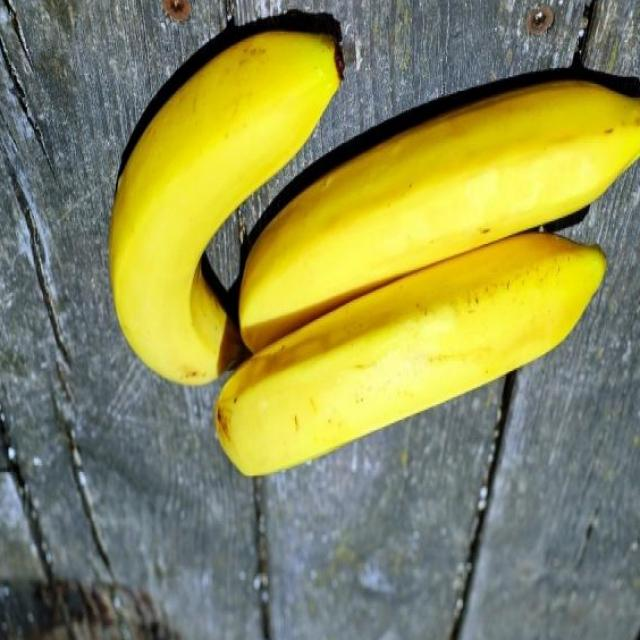banana: (229, 32, 640, 356), (190, 228, 616, 486), (93, 0, 347, 402)
